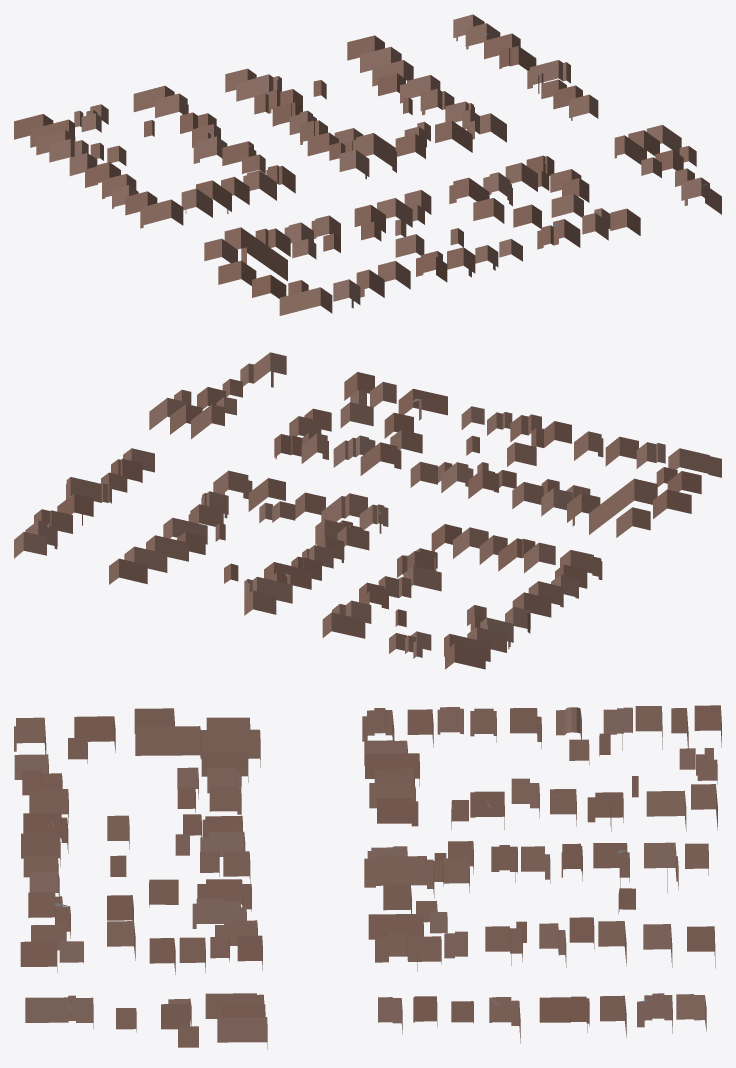
Rendered from c_1641_17829_buildings_residential.glb.
3 views of the same model, one above another, from view 1: azimuth 30°, elevation 25°; view 2: azimuth 150°, elevation 25°; view 3: azimuth 270°, elevation 25° (orthographic). The views are drawn at different scales.
Parts seen in each view (by area): view 1: geometry_0; view 2: geometry_0; view 3: geometry_0.
Boxes of the visible parts, x1,y1,x2,y2 form: geometry_0: [14, 14, 721, 315]; geometry_0: [14, 352, 721, 669]; geometry_0: [14, 705, 721, 1049].
Bounding box in the file's own units: 261 × 11.08 × 242.
